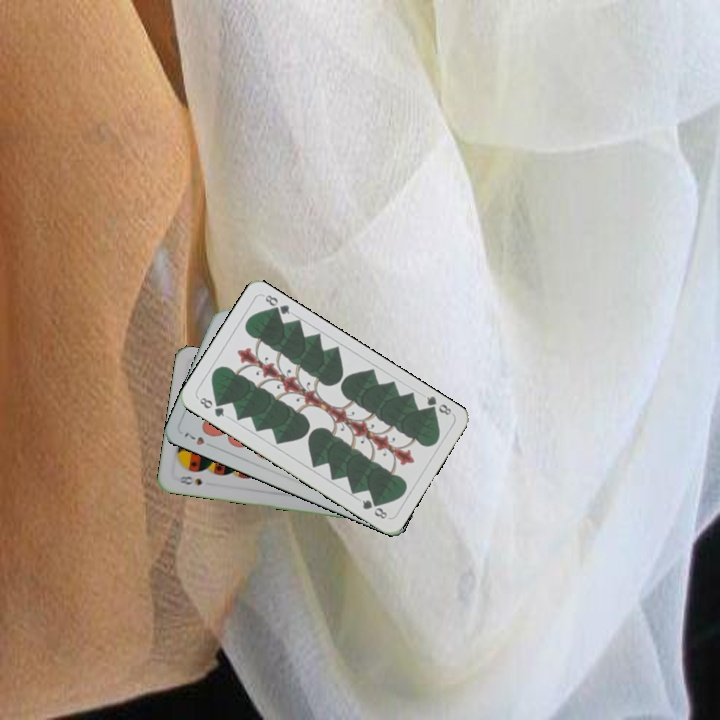G8: (422, 392, 455, 418), (195, 393, 227, 419)
H7: (180, 428, 217, 451)
S8: (172, 472, 205, 488)
